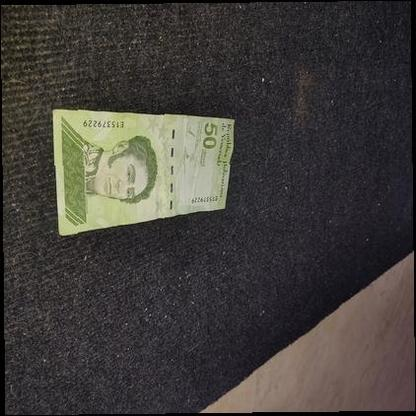fifty-front-vef: (52, 109, 235, 236)
